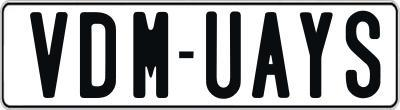A: (250, 11, 290, 102)
D: (77, 12, 113, 100)
M: (130, 11, 168, 97)
S: (346, 8, 385, 100)
U: (204, 8, 241, 96)
V: (27, 9, 68, 98)
Y: (300, 11, 334, 97)
